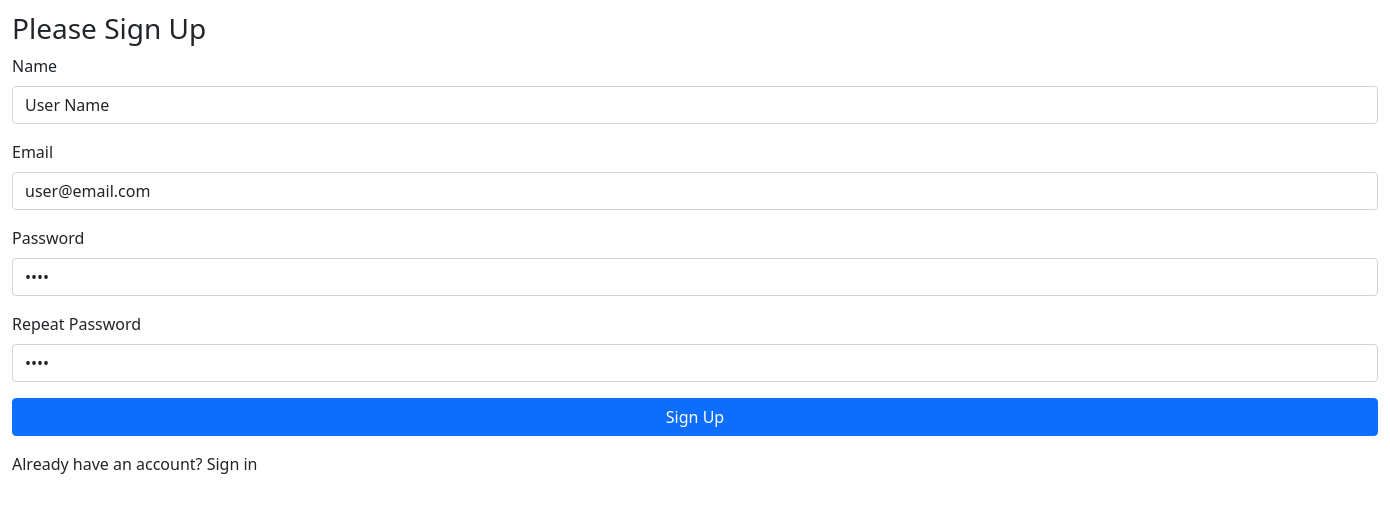
Test case: sign up page › when happens unexpected error on server › should show server error message
Click the button "Sign Up". click: (695, 417)
box: top-left (12, 398), bottom-right (1378, 436)
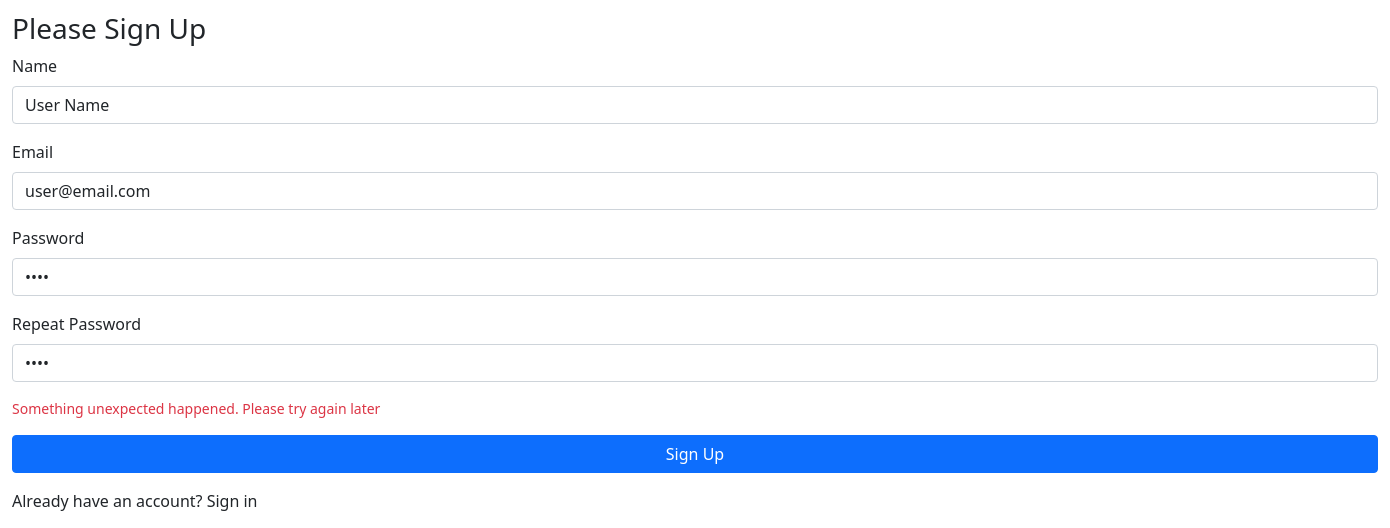
Result: the text with class "server-error-message" reads "Something unexpected happened. Please try again later" at top-left (12, 399), bottom-right (380, 418)
